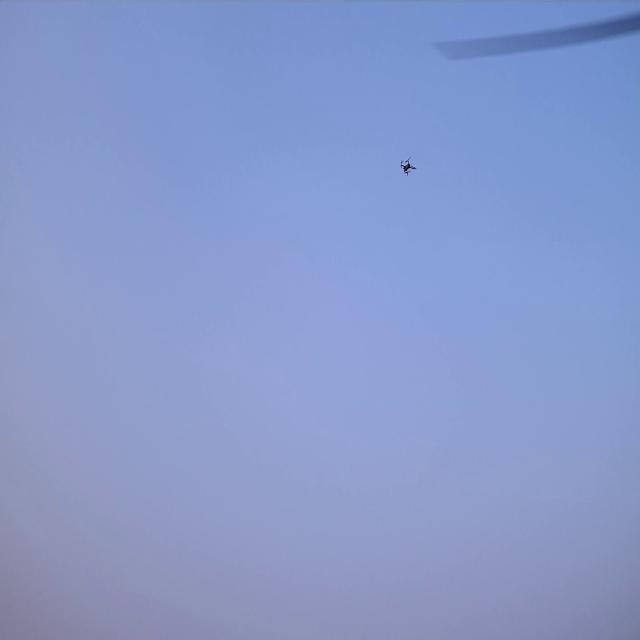UAV: (401, 160, 415, 173)
